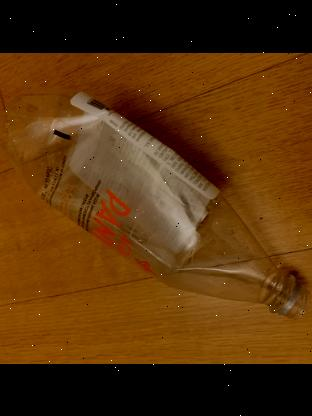Plastic Bottle: (0, 89, 310, 318)
